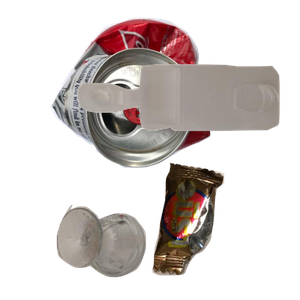glass: (54, 202, 193, 300)
metal: (48, 15, 251, 175)
plastic: (75, 62, 300, 186)
trash: (150, 160, 300, 300)
